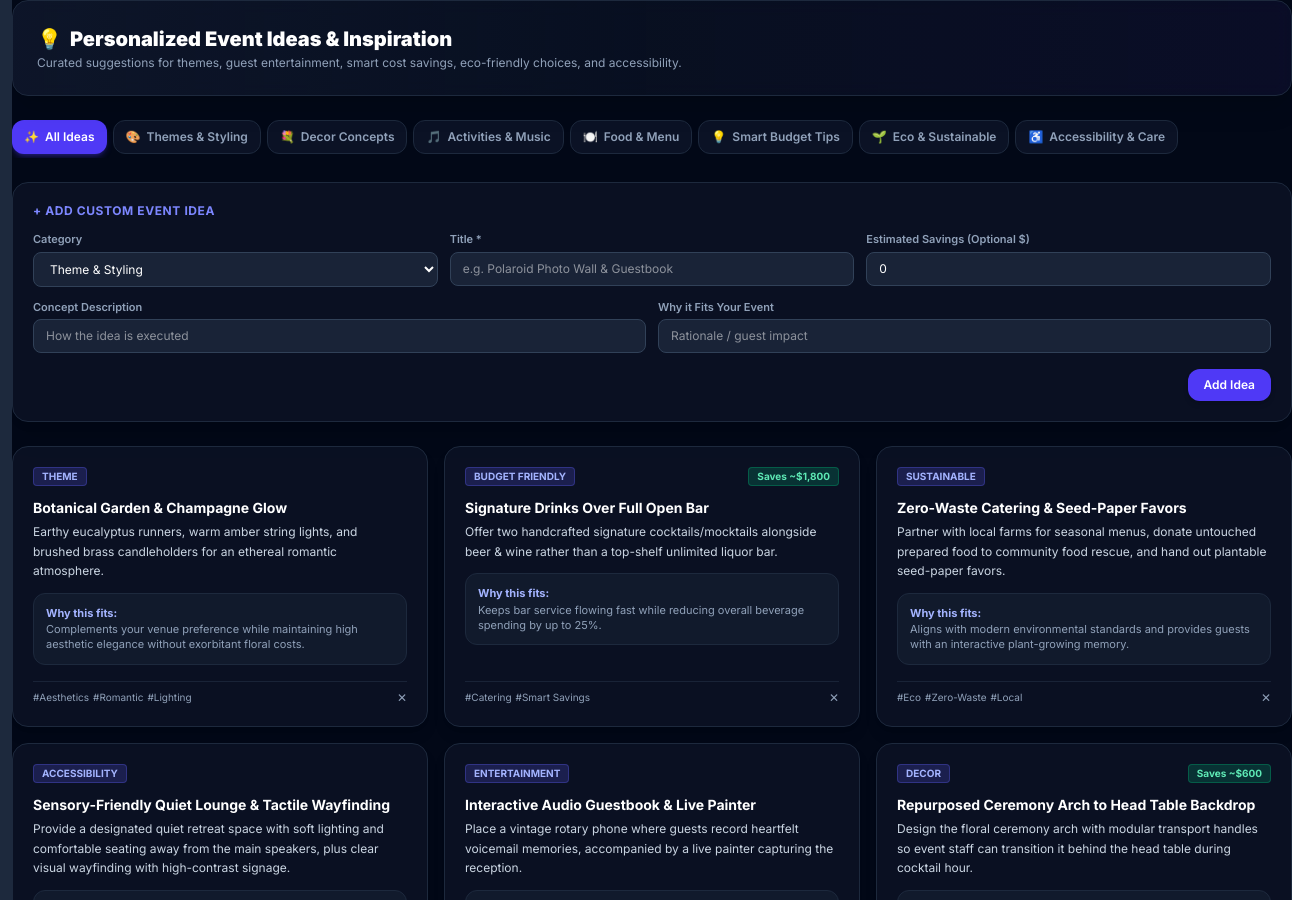
PersonalizedIdeas — DOM Interactions › adds a custom user-defined idea
In the field labelled "Title *": (652, 268) x1=450 y1=252 x2=854 y2=286, type "Glow Stick Send-off"
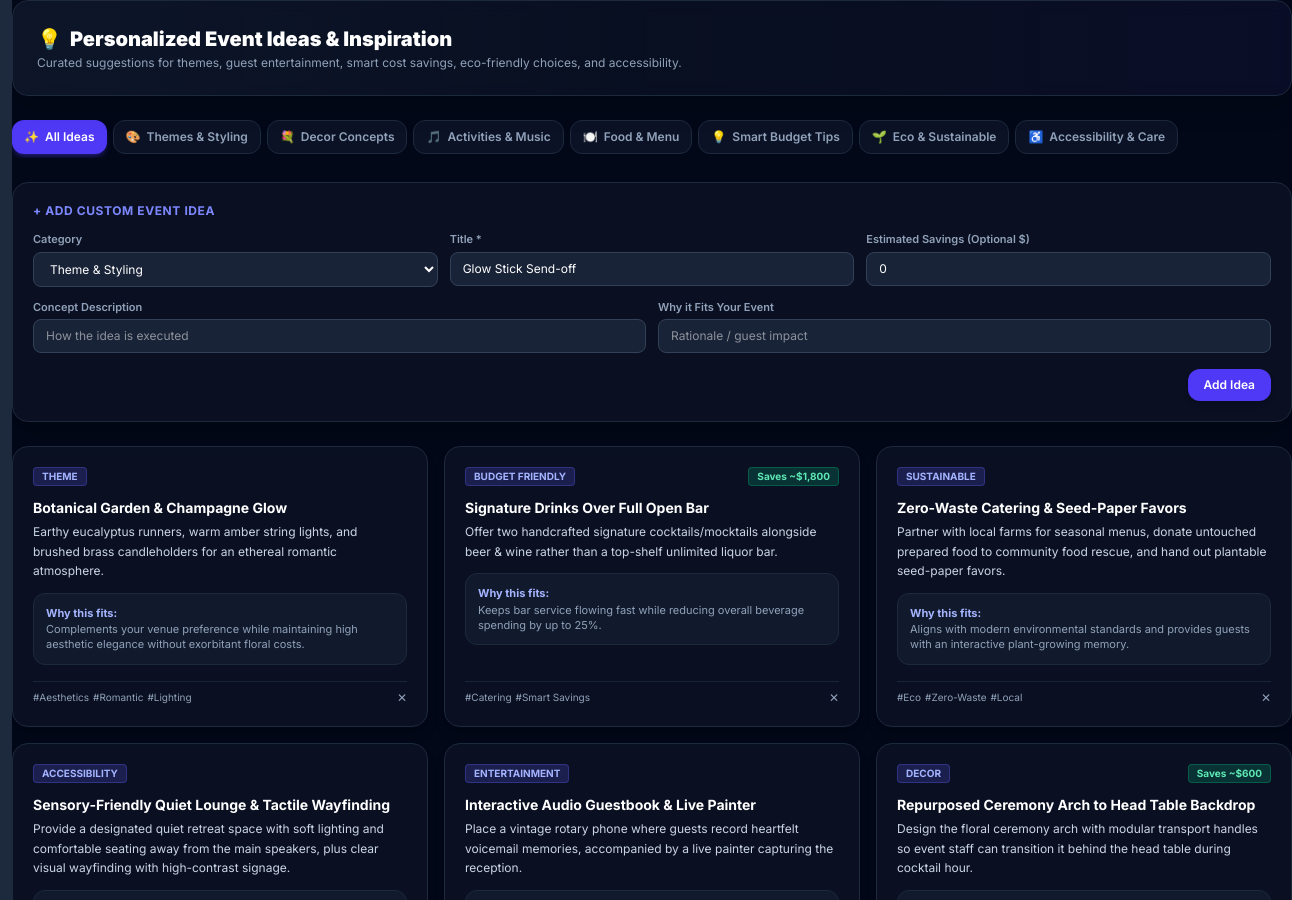
In the field labelled "Concept Description": (340, 336) x1=33 y1=319 x2=646 y2=353, type "Hand out neon glow sticks for final dance"
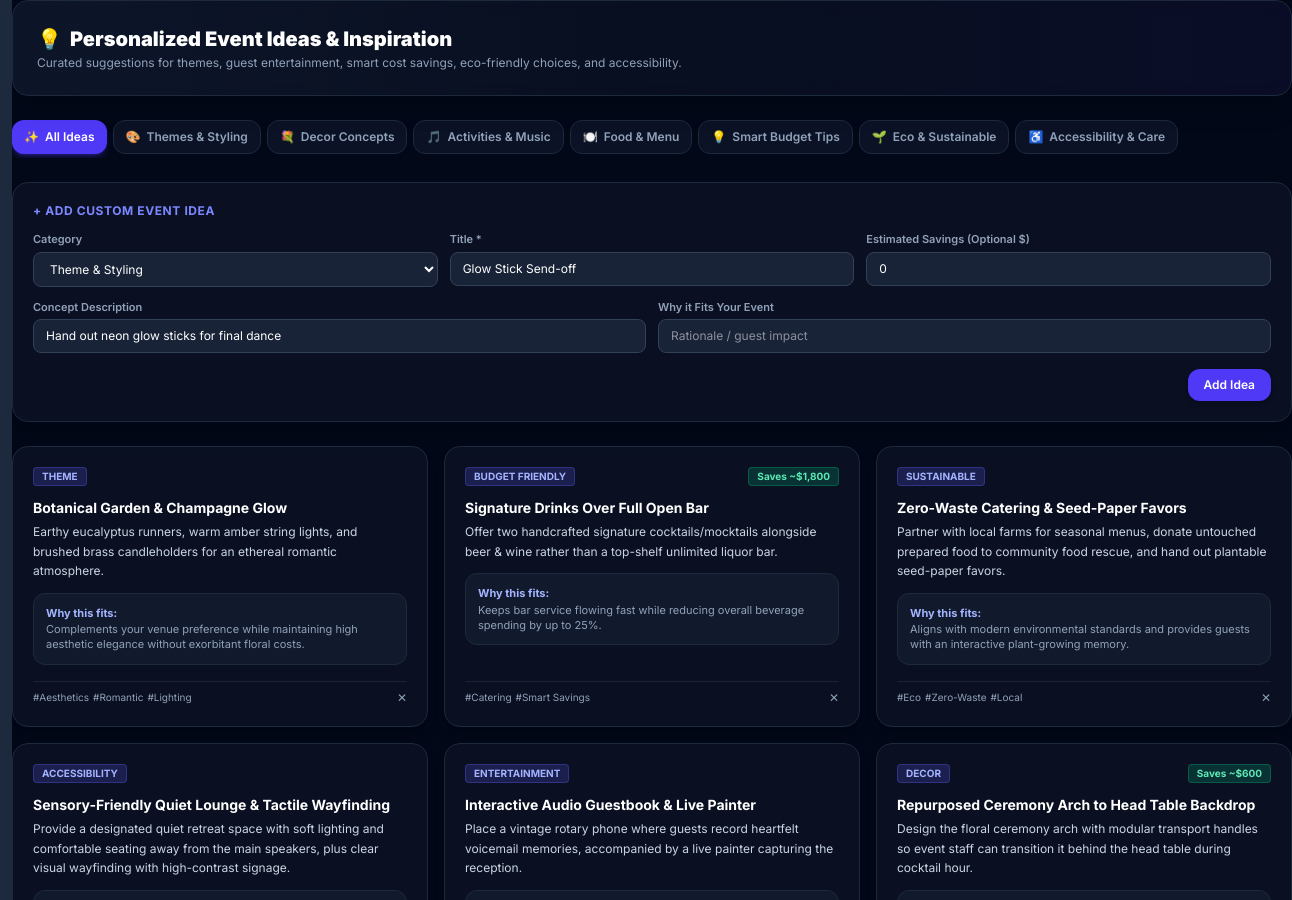
Click the button "Add Idea": (1229, 385) x1=1188 y1=369 x2=1271 y2=401
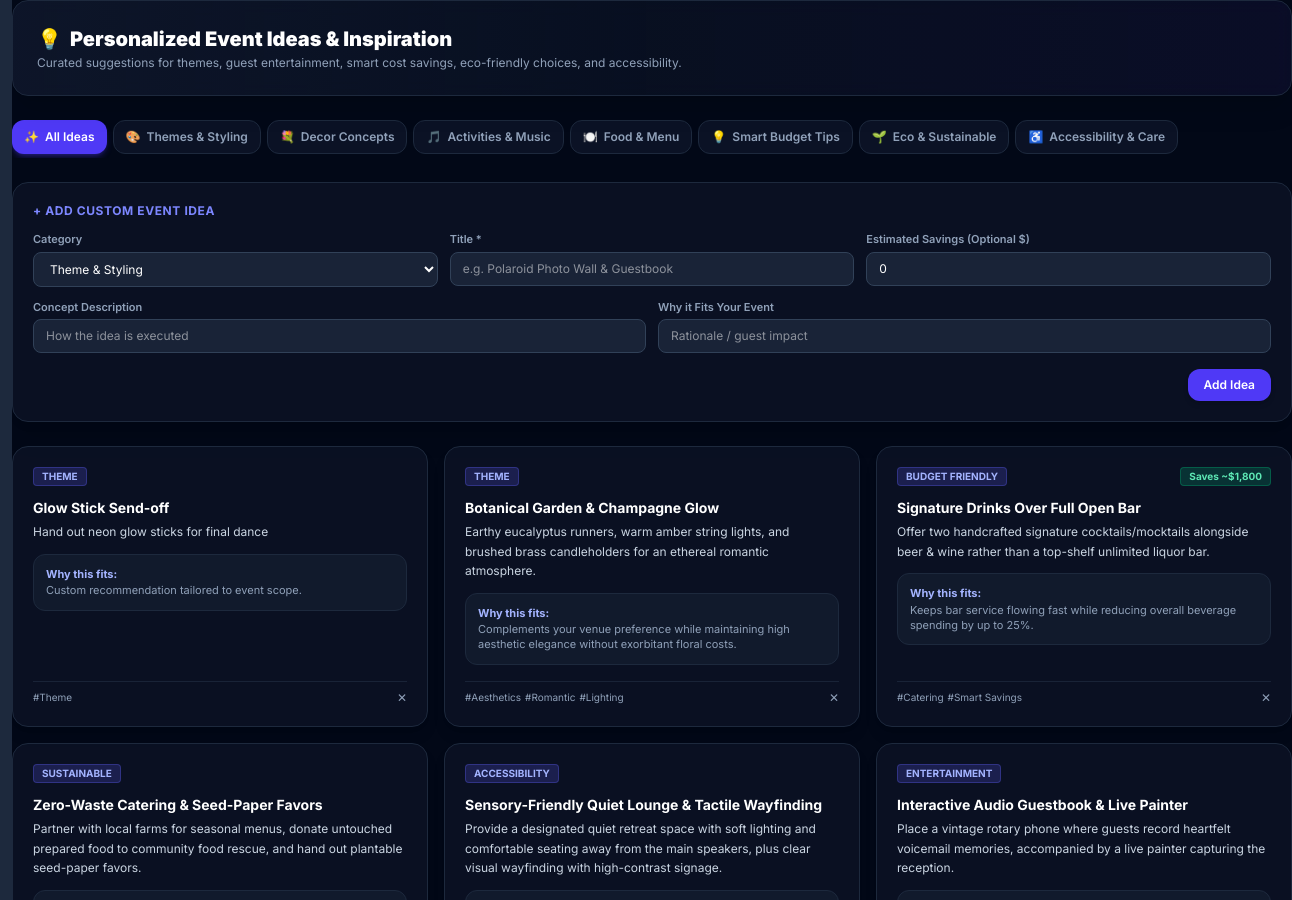
Expected: the heading "Glow Stick Send-off" is shown, x1=33 y1=499 x2=169 y2=516
